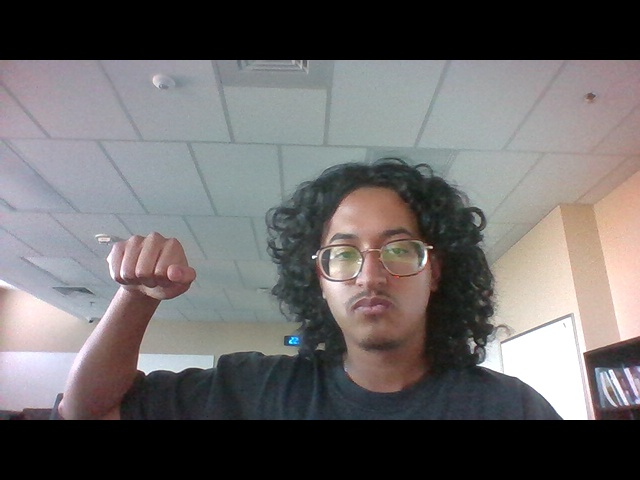yes: (101, 223, 213, 313)
